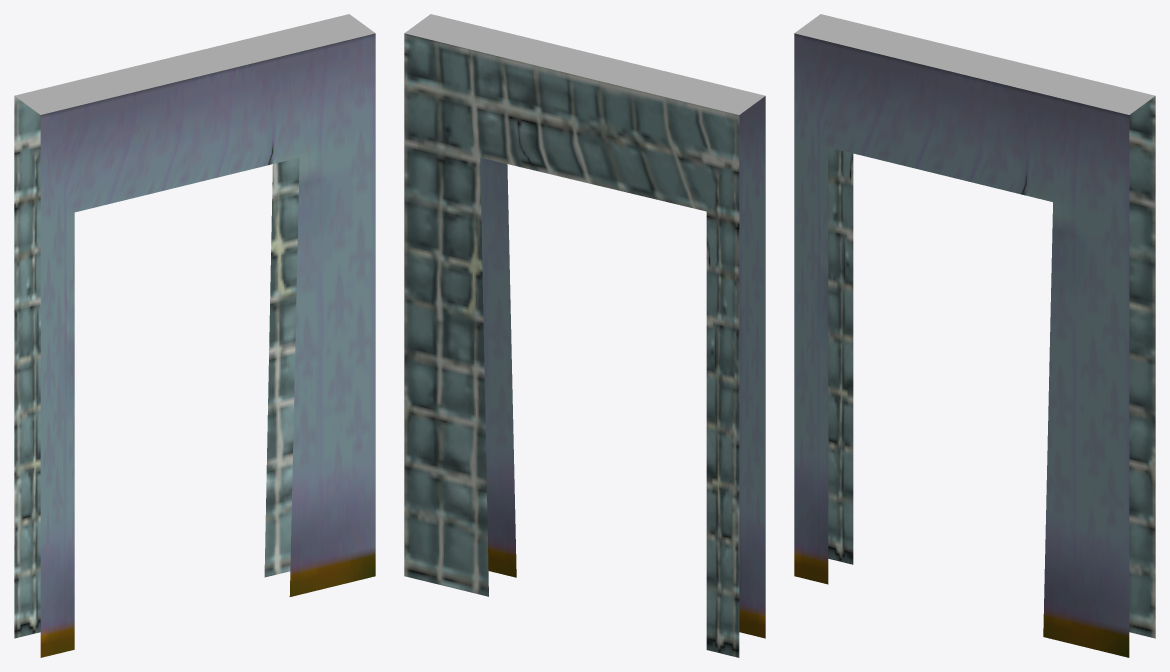
3 views of the same model, side by side, from view 1: azimuth 30°, elevation 25°; view 2: azimuth 150°, elevation 25°; view 3: azimuth 330°, elevation 25° (orthographic).
Parts seen in each view (by area): view 1: pPlaneShape2, pPlaneShape3, pPlaneShape1; view 2: pPlaneShape3, pPlaneShape2, pPlaneShape1; view 3: pPlaneShape2, pPlaneShape3, pPlaneShape1.
Part boxes in pixels (<box>): pPlaneShape2: <box>40,33,375,657</box>; pPlaneShape3: <box>14,96,299,638</box>; pPlaneShape1: <box>14,14,375,114</box>; pPlaneShape3: <box>404,33,739,657</box>; pPlaneShape2: <box>480,96,765,638</box>; pPlaneShape1: <box>405,14,765,114</box>; pPlaneShape2: <box>794,33,1129,657</box>; pPlaneShape3: <box>828,96,1155,638</box>; pPlaneShape1: <box>795,14,1155,114</box>.
Size of the model in its own units: 0.2252 by 0.3486 by 0.0308.
Materials: 3 (2 with a texture image).
